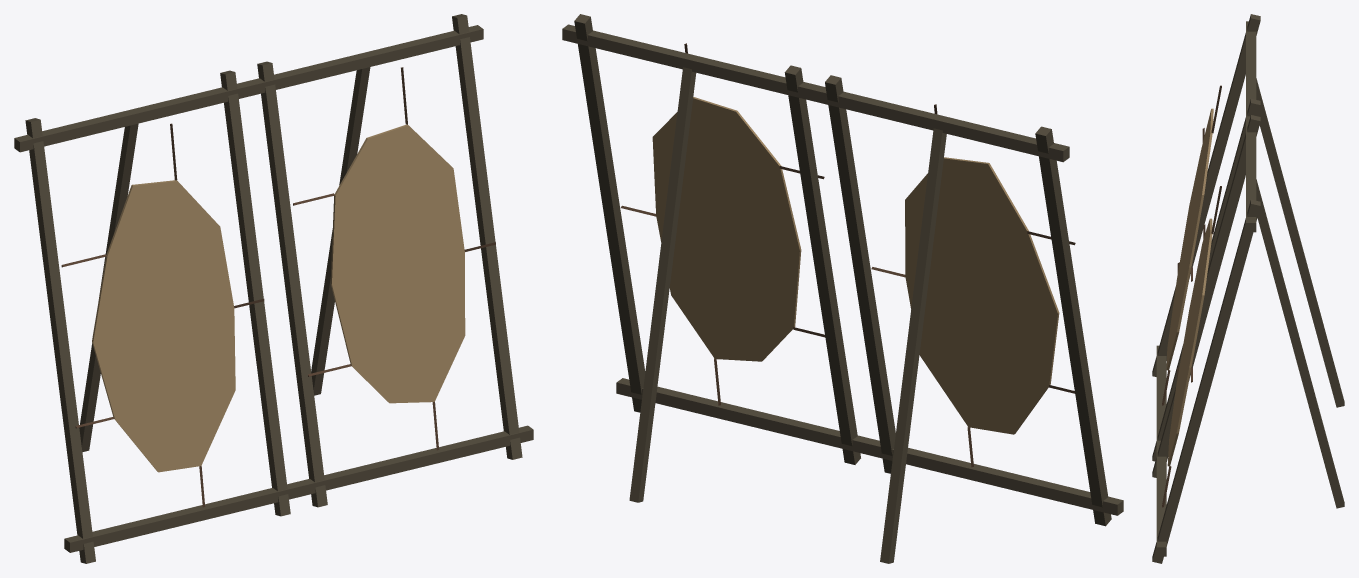
Rendered from HideFrame.fbx.
3 renders of one model, left to right at view 1: azimuth 30°, elevation 25°; view 2: azimuth 150°, elevation 25°; view 3: azimuth 270°, elevation 25°, orthographic. The views are drawn at different scales.
Visible parts, largest first — view 1: HideFrame; view 2: HideFrame; view 3: HideFrame.
Part boxes in pixels (x1,y1,x2,y2): HideFrame: (14, 14, 533, 563); HideFrame: (562, 14, 1123, 563); HideFrame: (1152, 14, 1344, 563).
Bounding box in the file's own units: 2 × 1.67 × 0.8071.
